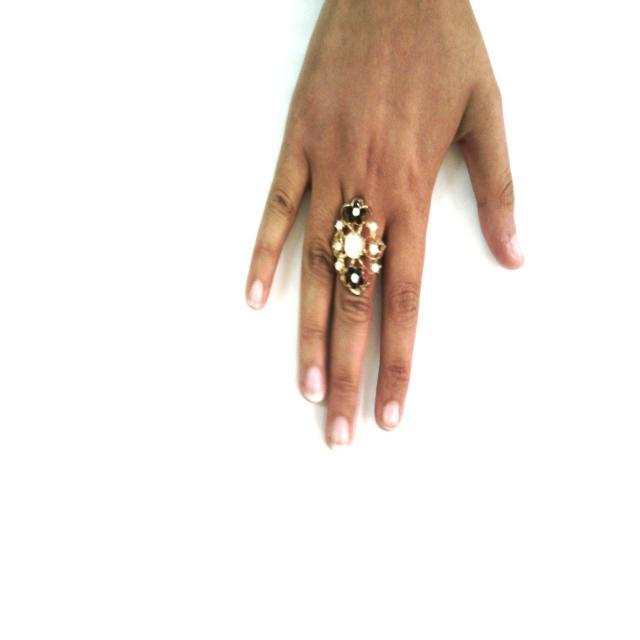Fingernail: (304, 366, 323, 401), (331, 416, 350, 446), (382, 402, 400, 428), (248, 281, 263, 306), (509, 237, 524, 259)
